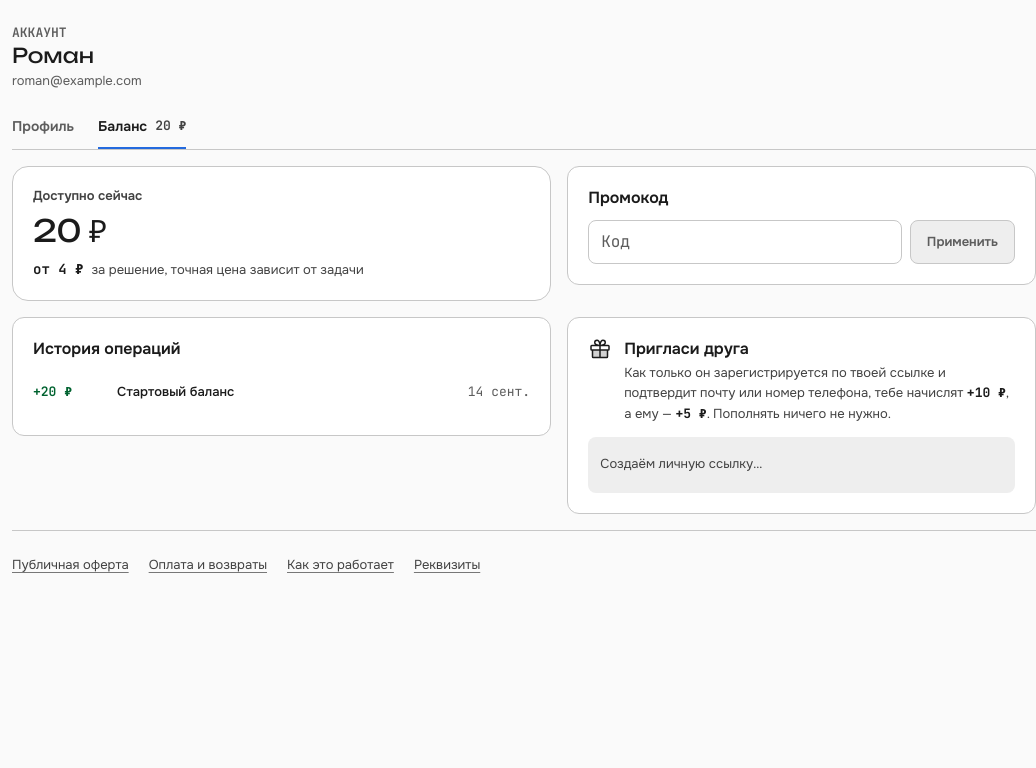
BalancePage › explains that a code is only for new accounts
Type "NEWBIE" into the field named "Промокод" at (745, 242), box [588,220,902,264]
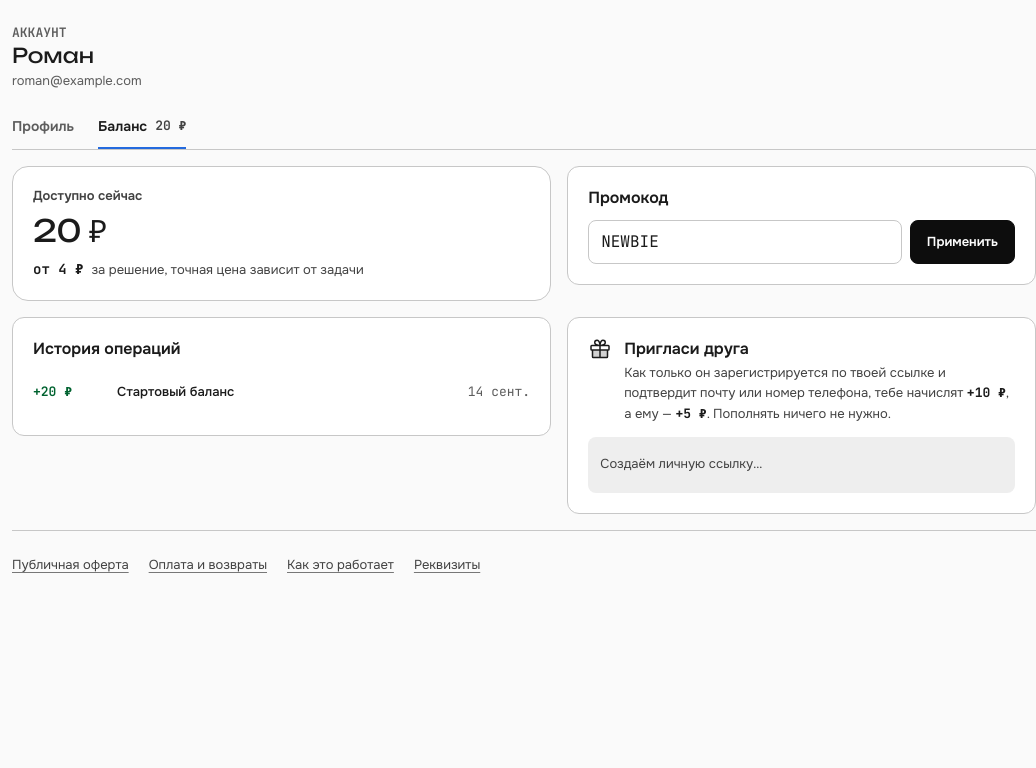
Click the button "Применить" at (962, 242), box [910,220,1015,264]
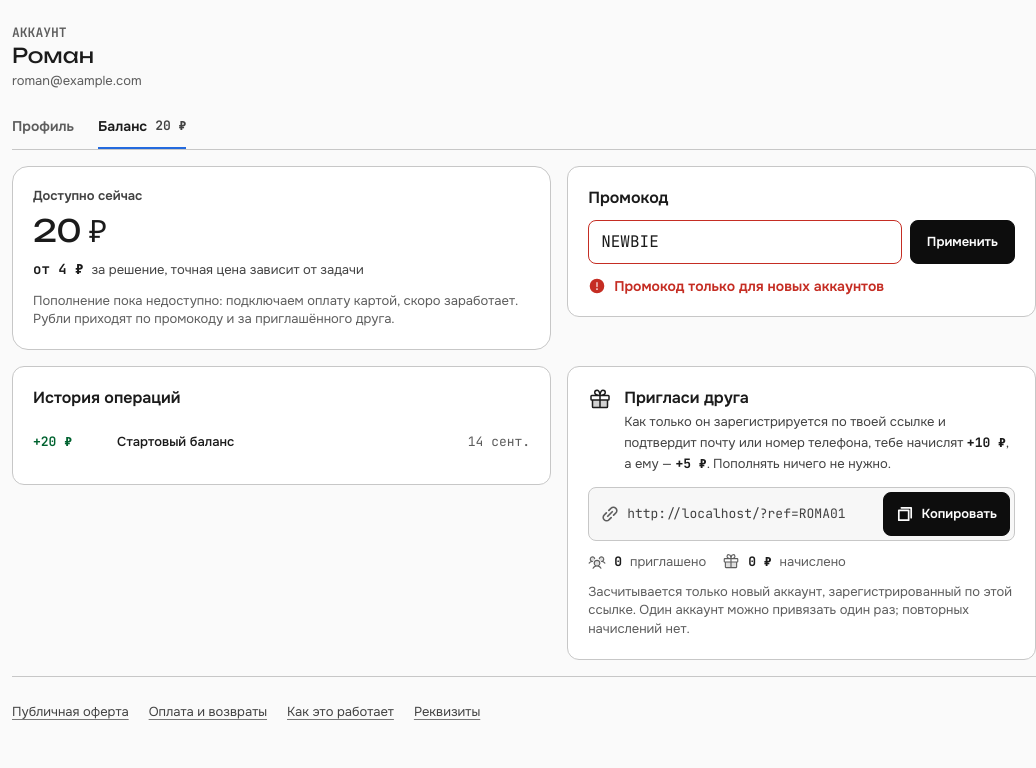
Now the message reads "Промокод только для новых аккаунтов", box [614,277,884,295]
